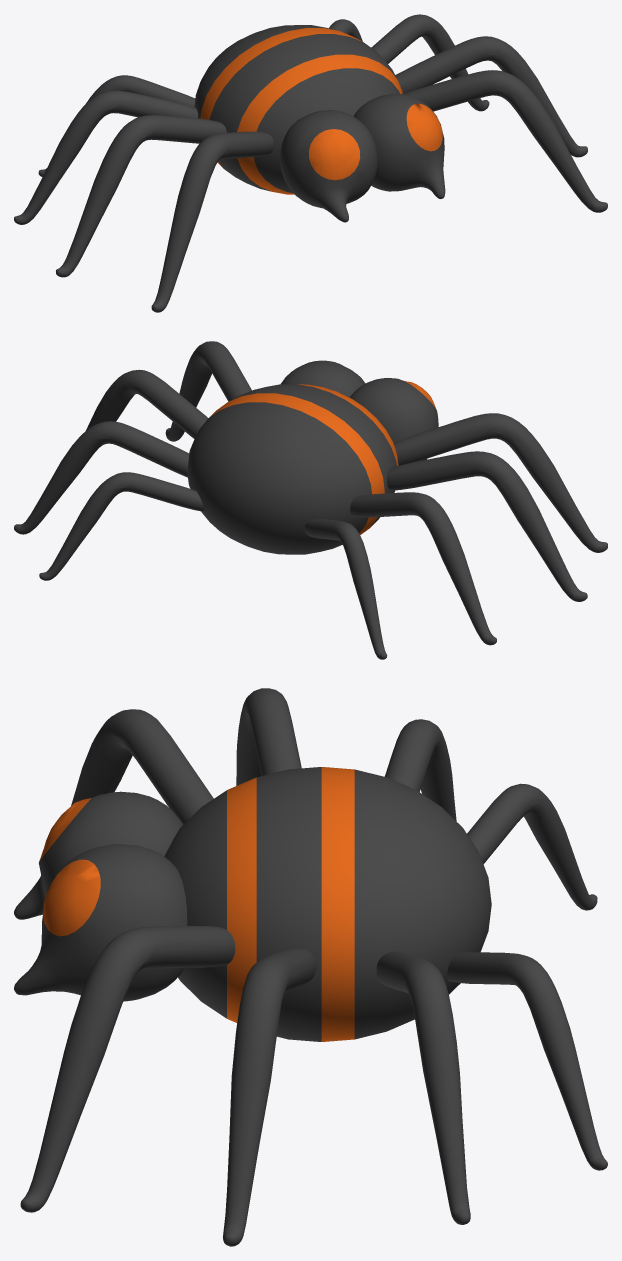
Rendered from Spinder.fbx.
3 views of the same model, one above another, from view 1: azimuth 30°, elevation 25°; view 2: azimuth 150°, elevation 25°; view 3: azimuth 270°, elevation 25° (orthographic). The views are drawn at different scales.
Parts seen in each view (by area): view 1: Body, Eyes, LegRight1, LegLeft2, LegLeft1, LegLeft3, LegRight2, LegRight3, LegLeft4; view 2: Body, LegLeft1, LegLeft2, Eyes, LegLeft3, LegRight3, LegRight4, LegRight2, LegLeft4, LegRight1; view 3: Body, Eyes, LegRight1, LegRight2, LegRight3, LegRight4, LegLeft1, LegLeft4, LegLeft2, LegLeft3.
Boxes of the visible parts, bbox=[...] form: Body: bbox=[194, 25, 402, 194]; Eyes: bbox=[280, 94, 445, 222]; LegRight1: bbox=[403, 70, 607, 212]; LegLeft2: bbox=[56, 115, 226, 277]; LegLeft1: bbox=[151, 131, 273, 312]; LegLeft3: bbox=[14, 90, 197, 224]; LegRight2: bbox=[395, 36, 587, 157]; LegRight3: bbox=[371, 14, 489, 111]; LegLeft4: bbox=[38, 75, 195, 176]; Body: bbox=[187, 384, 398, 554]; LegLeft1: bbox=[393, 413, 607, 552]; LegLeft2: bbox=[387, 451, 587, 601]; Eyes: bbox=[281, 360, 438, 460]; LegLeft3: bbox=[350, 492, 496, 645]; LegRight3: bbox=[14, 421, 189, 534]; LegRight4: bbox=[39, 472, 204, 580]; LegRight2: bbox=[86, 369, 208, 438]; LegLeft4: bbox=[304, 519, 387, 659]; LegRight1: bbox=[165, 341, 251, 441]; Body: bbox=[164, 767, 491, 1041]; Eyes: bbox=[14, 791, 187, 1001]; LegRight1: bbox=[20, 926, 235, 1212]; LegRight2: bbox=[223, 947, 316, 1246]; LegRight3: bbox=[376, 951, 470, 1224]; LegRight4: bbox=[447, 952, 607, 1170]; LegLeft1: bbox=[71, 709, 213, 824]; LegLeft4: bbox=[467, 783, 597, 910]; LegLeft2: bbox=[236, 688, 301, 785]; LegLeft3: bbox=[384, 719, 456, 821].
Bounding box in the file's own units: 99.41 × 28.98 × 60.07.
